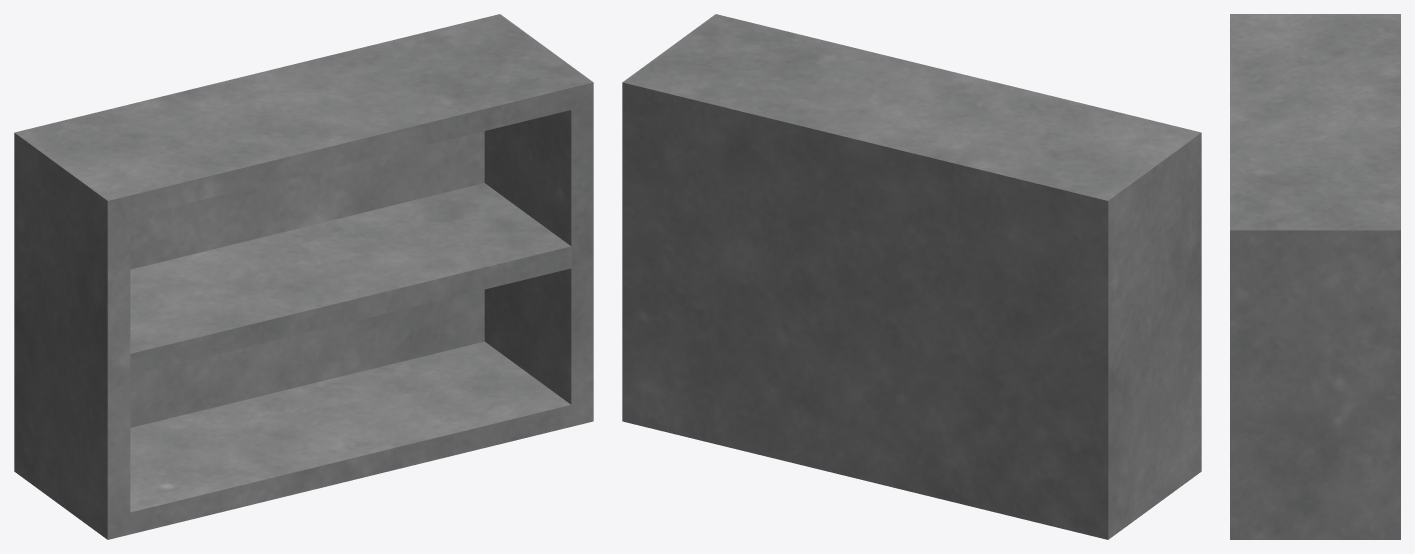
Rendered from LC_3145_iron_shelf_LOD1.fbx.
The picture shows the model from 3 angles, left to right: view 1: azimuth 30°, elevation 25°; view 2: azimuth 150°, elevation 25°; view 3: azimuth 270°, elevation 25°; orthographic projection. The views are drawn at different scales.
Parts seen in each view (by area): view 1: LC_3145_is_LOD1; view 2: LC_3145_is_LOD1; view 3: LC_3145_is_LOD1.
Boxes of the visible parts, x1,y1,x2,y2 form: LC_3145_is_LOD1: [14, 14, 593, 539]; LC_3145_is_LOD1: [622, 14, 1201, 539]; LC_3145_is_LOD1: [1230, 14, 1400, 539].
Bounding box in the file's own units: 90 × 60 × 30.
Materials: 1 (1 with a texture image).
